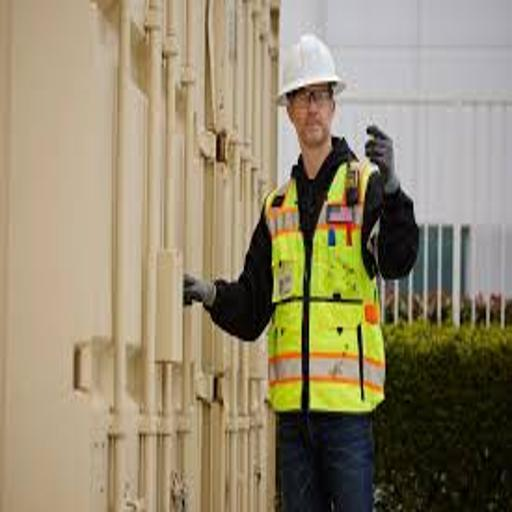Hard_hat: (268, 29, 361, 108)
Vest: (255, 165, 394, 418)
Visor: (292, 88, 340, 116)
